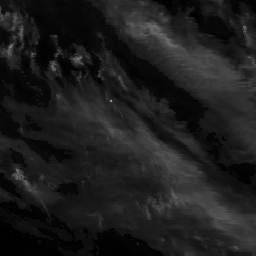Target: (109, 99, 113, 103)
